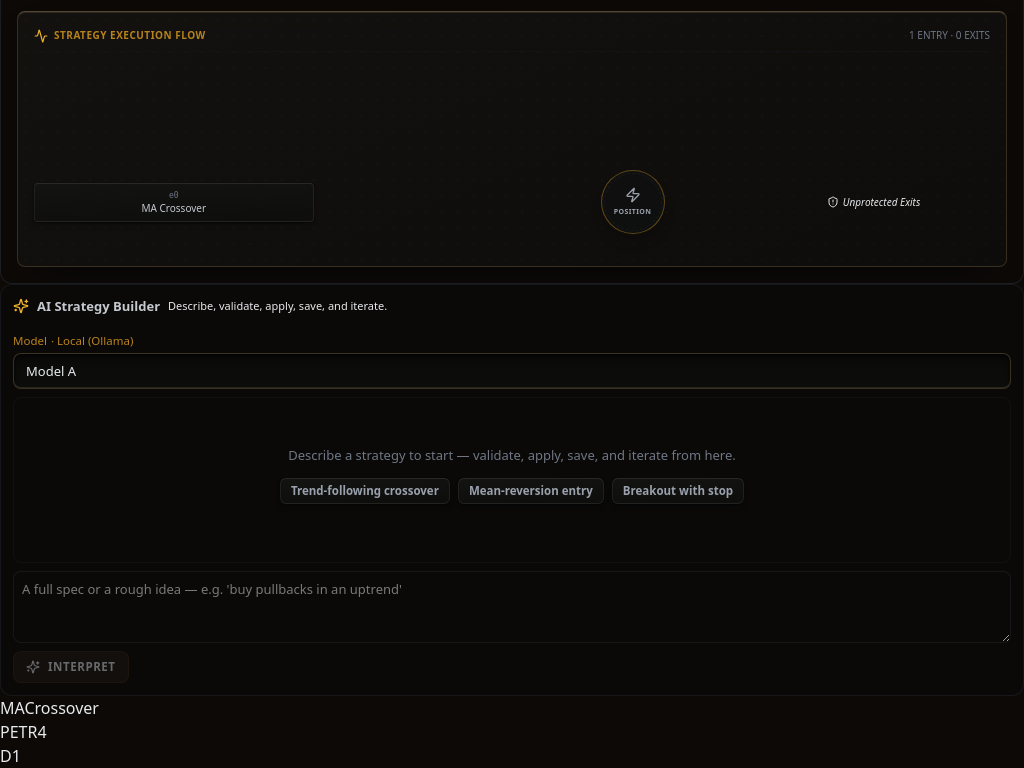
Scenario: AiStrategyPanel WO95 workflow › duplicate preserves spec metadata but creates an editable draft
(page scrolled)
Expected: the element with test id "ai-strategy-panel" is shown, x1=0 y1=284 x2=1023 y2=696
In the text box with test id "ai-strategy-message": (512, 607) x1=13 y1=571 x2=1011 y2=643, type "Create EMA crossover"
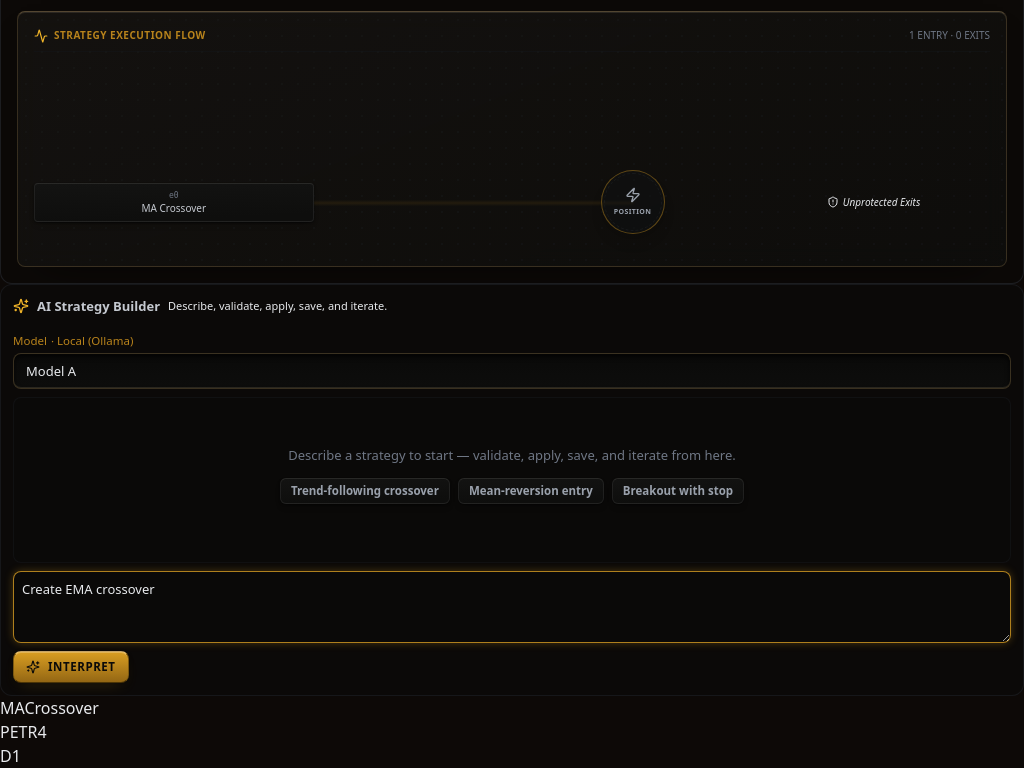
Click the button with test id "ai-strategy-submit": (71, 667) x1=13 y1=651 x2=129 y2=683
(page scrolled)
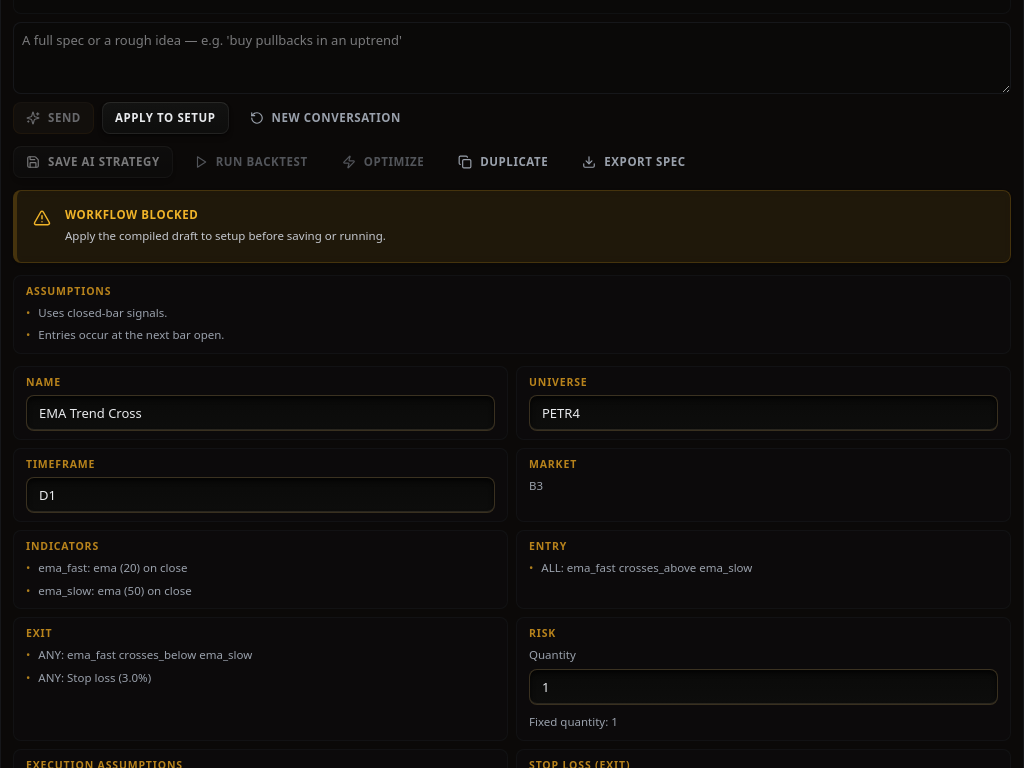
Result: the button with test id "ai-strategy-apply" is shown
Click the button with test id "ai-strategy-apply": (165, 118) x1=102 y1=102 x2=229 y2=134
(page scrolled)
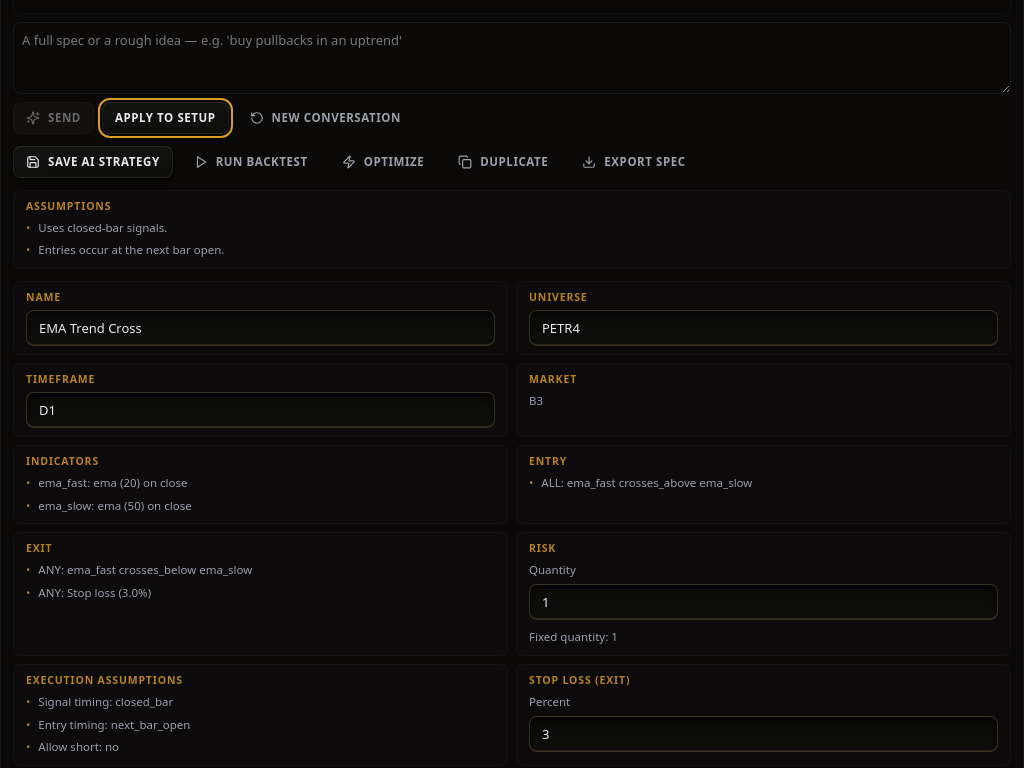
Click the button with test id "ai-strategy-duplicate": (503, 162) x1=445 y1=146 x2=561 y2=178
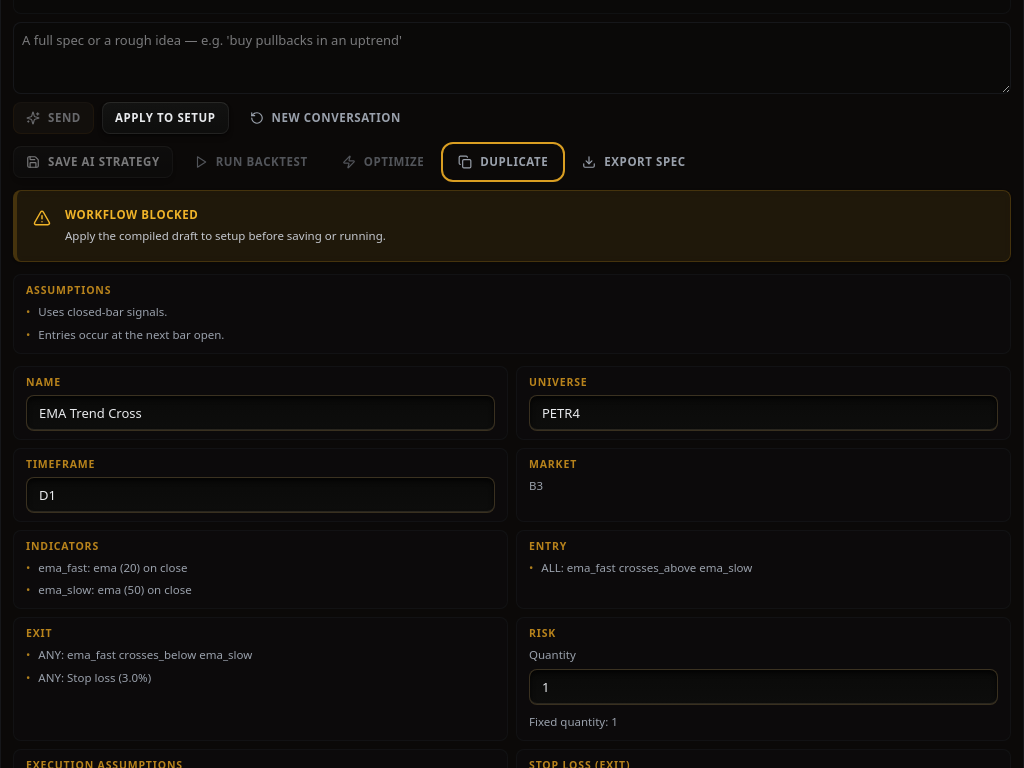
Result: the button with test id "ai-strategy-save" is disabled at x1=13 y1=146 x2=173 y2=178
Result: the element with test id "ai-strategy-workflow-blocker" shows "Apply the compiled draft" at x1=65 y1=228 x2=386 y2=243
